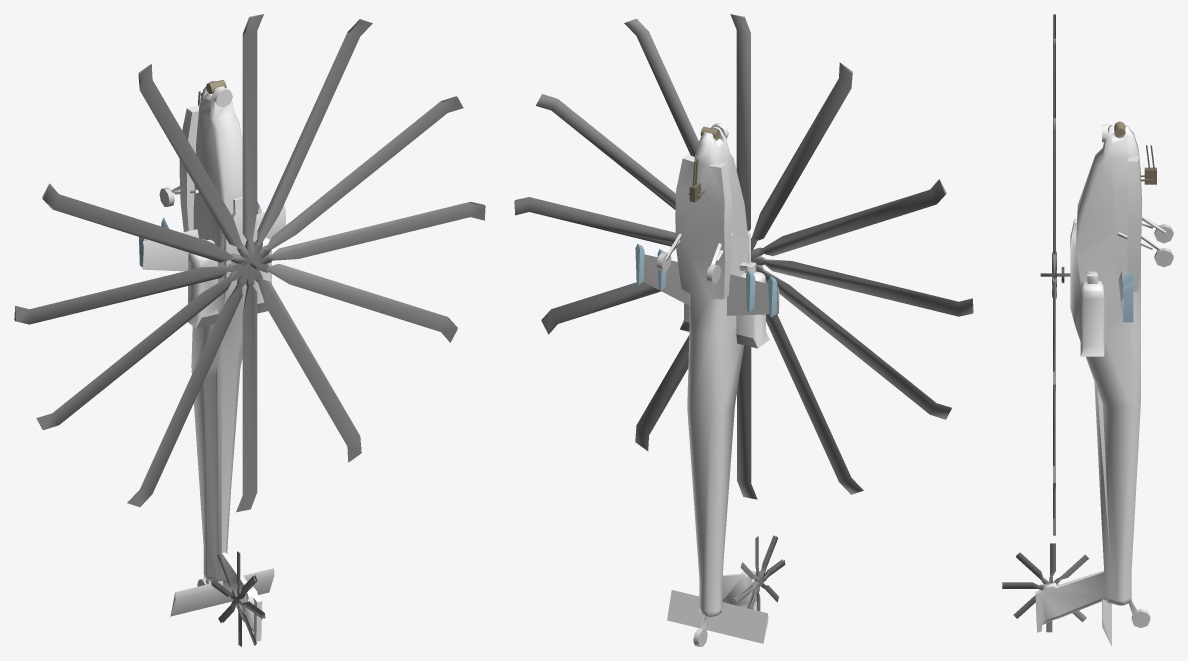
3 views of the same model, side by side, from view 1: azimuth 30°, elevation 25°; view 2: azimuth 150°, elevation 25°; view 3: azimuth 270°, elevation 25° (orthographic). The views are drawn at different scales.
Parts seen in each view (by area): view 1: db_ah64_p13891_Geometry_0.001, db_mroterg_mrot_p13940_Geometry_0.001, db_mroterg_o2584_p15232_Geometry_0.001, db_mroterg_o2583_p15046_Geometry_0.001, db_ah64_p13853_Geometry_0.001; view 2: db_ah64_p13891_Geometry_0.001, db_mroterg_mrot_p13940_Geometry_0.001, db_mroterg_o2583_p15046_Geometry_0.001, db_mroterg_o2584_p15232_Geometry_0.001, db_ah64_p14318_Geometry_0.001, db_ah64_p13853_Geometry_0.001; view 3: db_ah64_p13891_Geometry_0.001, db_ah64_p13853_Geometry_0.001, db_mroterg_o2584_p15232_Geometry_0.001, db_rroterg_o2582_p14880_Geometry_0.001, db_mroterg_mrot_p13940_Geometry_0.001, db_ah64_p13814_Geometry_0.001, db_ah64_p14318_Geometry_0.001, db_rroterg_o2581_p14752_Geometry_0.001, db_rroterg_rrot_p14122_Geometry_0.001, db_ah64_p13651_Geometry_0.001, db_mroterg_o2583_p15046_Geometry_0.001, db_ah64_p13824_Geometry_0.001.
Part boxes in pixels (<box>): db_ah64_p13891_Geometry_0.001: <box>142,80,285,641</box>; db_mroterg_mrot_p13940_Geometry_0.001: <box>14,14,485,512</box>; db_mroterg_o2584_p15232_Geometry_0.001: <box>42,19,457,507</box>; db_mroterg_o2583_p15046_Geometry_0.001: <box>36,64,463,462</box>; db_ah64_p13853_Geometry_0.001: <box>203,113,242,214</box>; db_ah64_p13891_Geometry_0.001: <box>643,122,779,643</box>; db_mroterg_mrot_p13940_Geometry_0.001: <box>514,14,973,499</box>; db_mroterg_o2583_p15046_Geometry_0.001: <box>536,62,951,450</box>; db_mroterg_o2584_p15232_Geometry_0.001: <box>541,19,946,494</box>; db_ah64_p14318_Geometry_0.001: <box>635,244,777,317</box>; db_ah64_p13853_Geometry_0.001: <box>728,153,747,238</box>; db_ah64_p13891_Geometry_0.001: <box>1035,124,1165,646</box>; db_ah64_p13853_Geometry_0.001: <box>1076,148,1114,251</box>; db_mroterg_o2584_p15232_Geometry_0.001: <box>1052,118,1056,491</box>; db_rroterg_o2582_p14880_Geometry_0.001: <box>1002,554,1088,618</box>; db_mroterg_mrot_p13940_Geometry_0.001: <box>1052,38,1056,397</box>; db_ah64_p13814_Geometry_0.001: <box>1154,224,1173,267</box>; db_ah64_p14318_Geometry_0.001: <box>1123,270,1133,322</box>; db_rroterg_o2581_p14752_Geometry_0.001: <box>1002,553,1086,621</box>; db_rroterg_rrot_p14122_Geometry_0.001: <box>1016,543,1086,632</box>; db_ah64_p13651_Geometry_0.001: <box>1140,145,1156,184</box>; db_mroterg_o2583_p15046_Geometry_0.001: <box>1052,14,1056,535</box>; db_ah64_p13824_Geometry_0.001: <box>1131,609,1150,627</box>.
Size of the model in its own units: 11.7 by 14.85 by 3.85.
